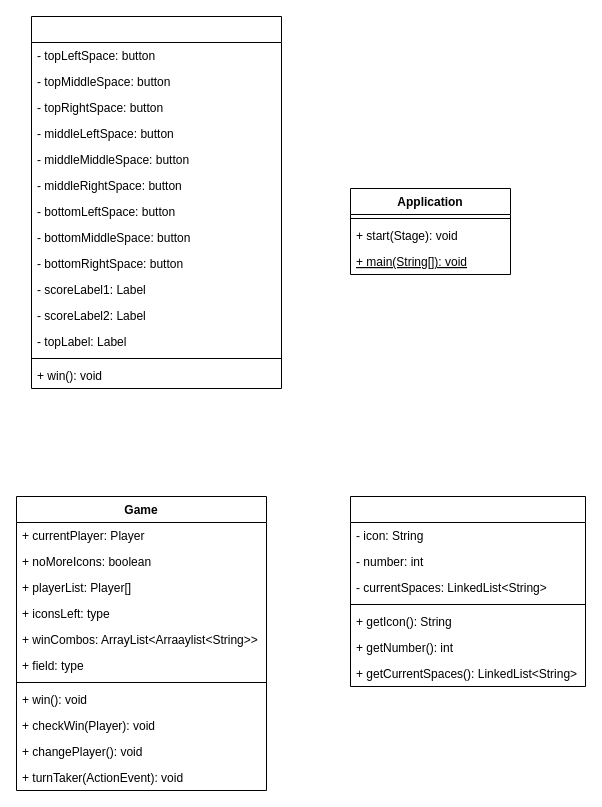
The diagram is 602 pixels wide and 807 high, and some of its shapes have lost their labels. The shapes that lost their labels are listed below. From the top down, each one's box as (x1, y1, x2, y2) in pixels, then its label:
(30, 16, 282, 388): Controller
(350, 496, 586, 686): Player
